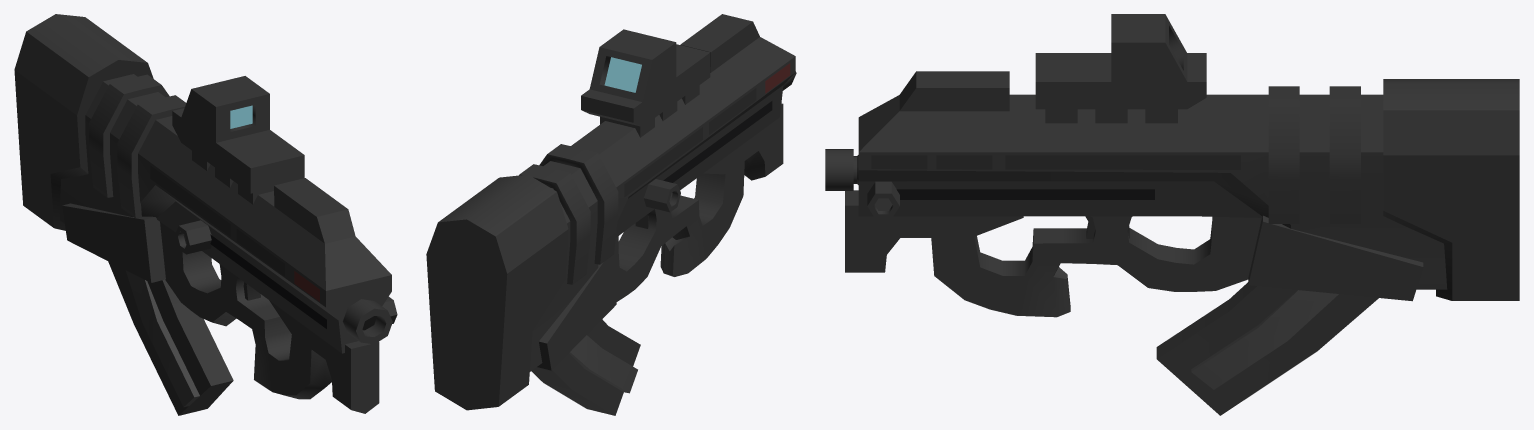
3 views of the same model, side by side, from view 1: azimuth 30°, elevation 25°; view 2: azimuth 150°, elevation 25°; view 3: azimuth 270°, elevation 25° (orthographic). The views are drawn at different scales.
Visible parts, largest first — view 1: C20R, C20RMagazine; view 2: C20R, C20RMagazine; view 3: C20R, C20RMagazine.
Part boxes in pixels (left/top/right/bottom): C20R: left=14, top=14, right=397, bottom=413; C20RMagazine: left=108, top=261, right=233, bottom=415; C20R: left=426, top=14, right=796, bottom=410; C20RMagazine: left=531, top=319, right=640, bottom=415; C20R: left=825, top=14, right=1519, bottom=317; C20RMagazine: left=1156, top=282, right=1378, bottom=415.
Bounding box in the file's own units: 11.27 × 44.21 × 73.25.
